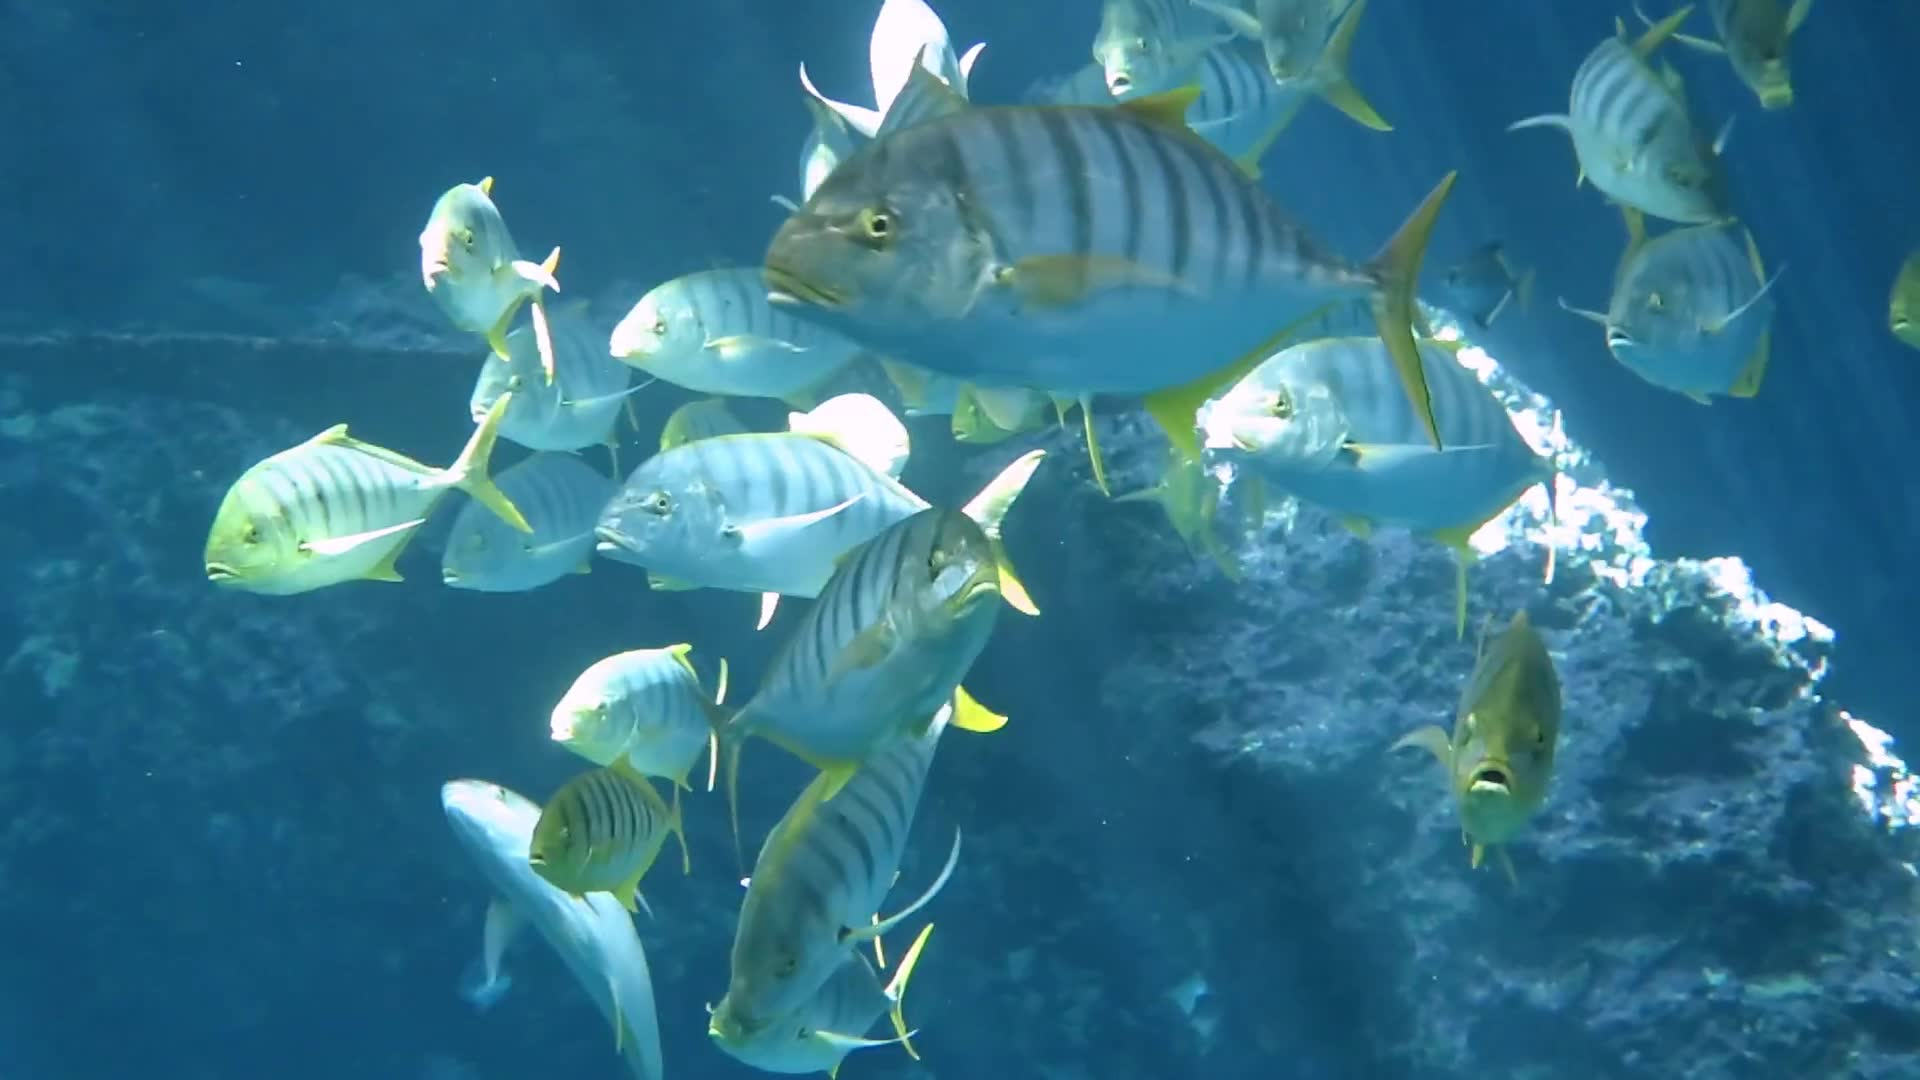Gnathanodon speciosus: (756, 95, 1462, 402), (1200, 380, 1601, 551), (200, 402, 531, 608), (732, 731, 949, 1011), (584, 452, 1036, 584), (745, 538, 1006, 750), (1416, 636, 1609, 860), (1594, 229, 1811, 386), (1567, 40, 1720, 229), (597, 284, 855, 390), (409, 150, 541, 328), (524, 764, 688, 899), (529, 634, 715, 742), (1062, 15, 1258, 94)
